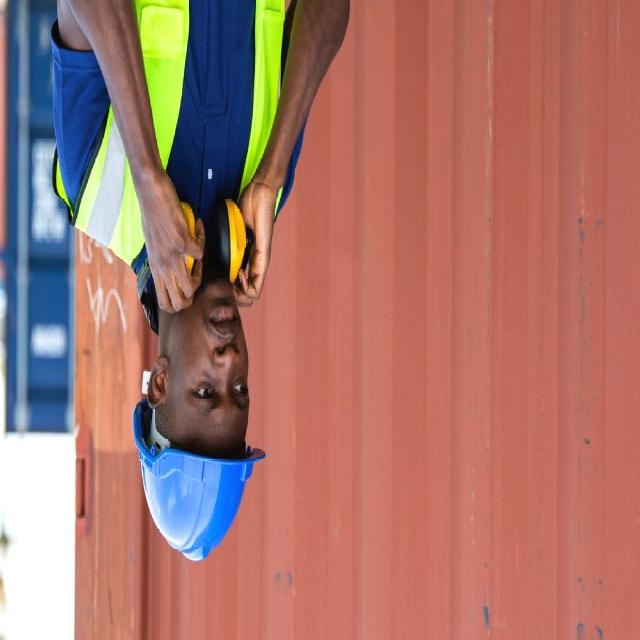Ear Muffs: (134, 194, 252, 338)
Hard Hat: (120, 390, 274, 560)
Reflective Vest: (42, 0, 284, 306)
